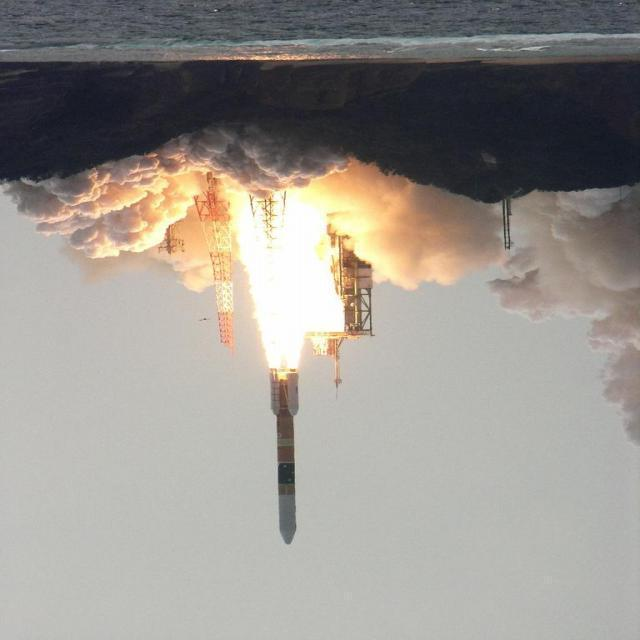missile: (261, 363, 310, 550)
